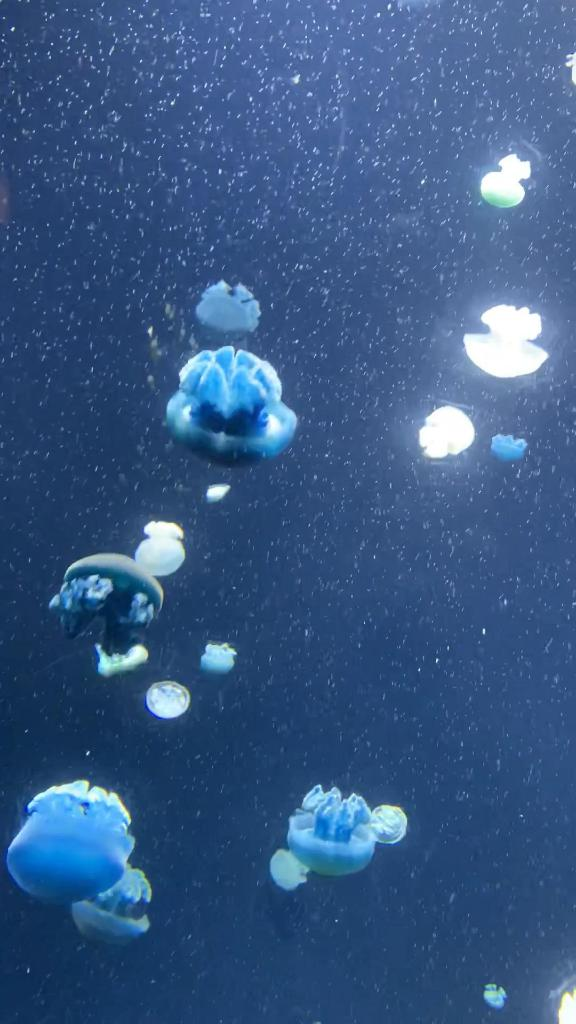jellyfish: (8, 776, 138, 902), (164, 350, 296, 468), (51, 551, 166, 677), (270, 777, 398, 889), (69, 854, 159, 950), (462, 300, 550, 378), (194, 279, 262, 347), (133, 518, 197, 588), (479, 148, 537, 210), (418, 403, 478, 459), (263, 842, 315, 894), (143, 678, 195, 718), (369, 805, 415, 849), (491, 428, 532, 466), (198, 640, 236, 680), (202, 484, 240, 504)
